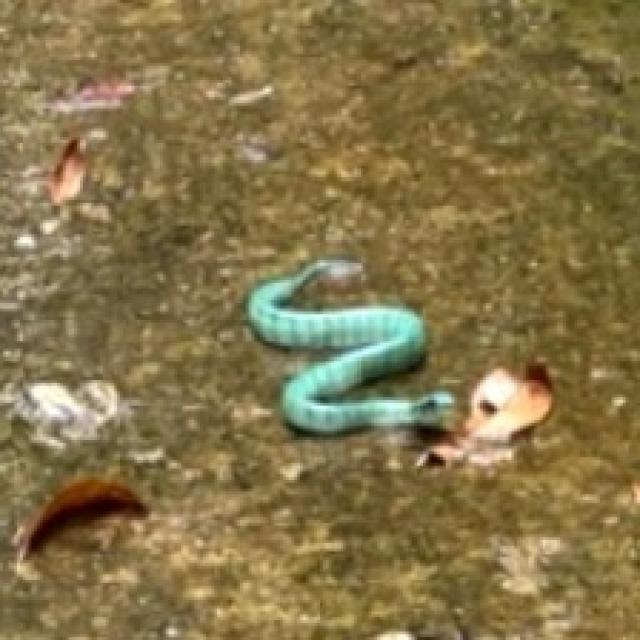north ph temple pitviper: (249, 260, 451, 431)
